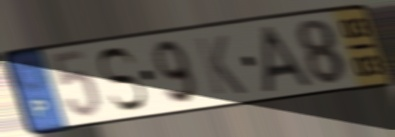5: (46, 47, 104, 123)
8: (295, 16, 349, 87)
9: (148, 37, 201, 107)
A: (261, 22, 317, 96)
K: (192, 33, 249, 98)
S: (96, 45, 149, 114)
